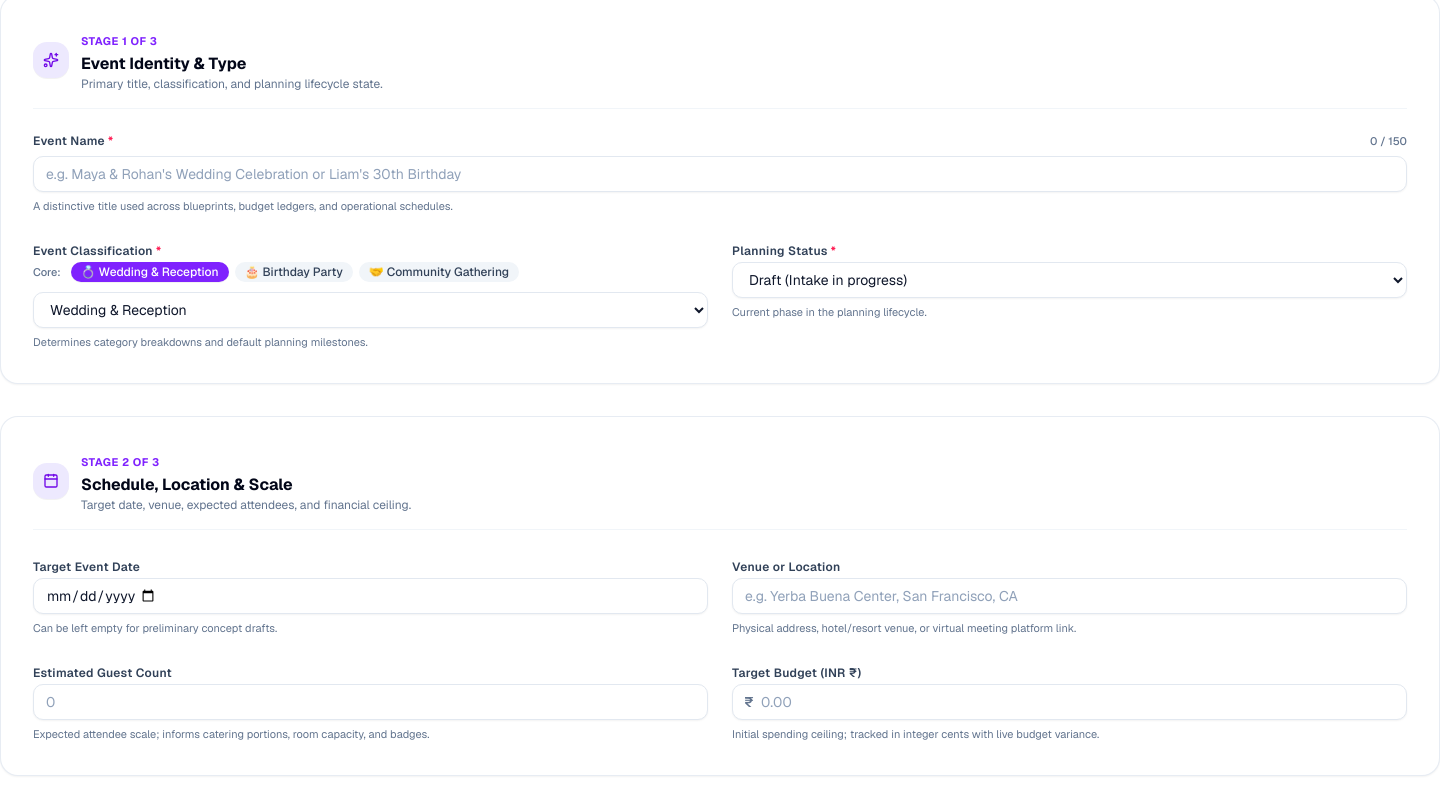
Test case: EventForm Component › Interactive User Input & State Transitions › updates input values and live character counters as user types
Check: the text "0 / 150" is shown, box [1370, 133, 1407, 150]
Type "Global Tech Symposium" into the field labelled "Event Name *" at (720, 174), box [33, 156, 1407, 192]
(page scrolled)
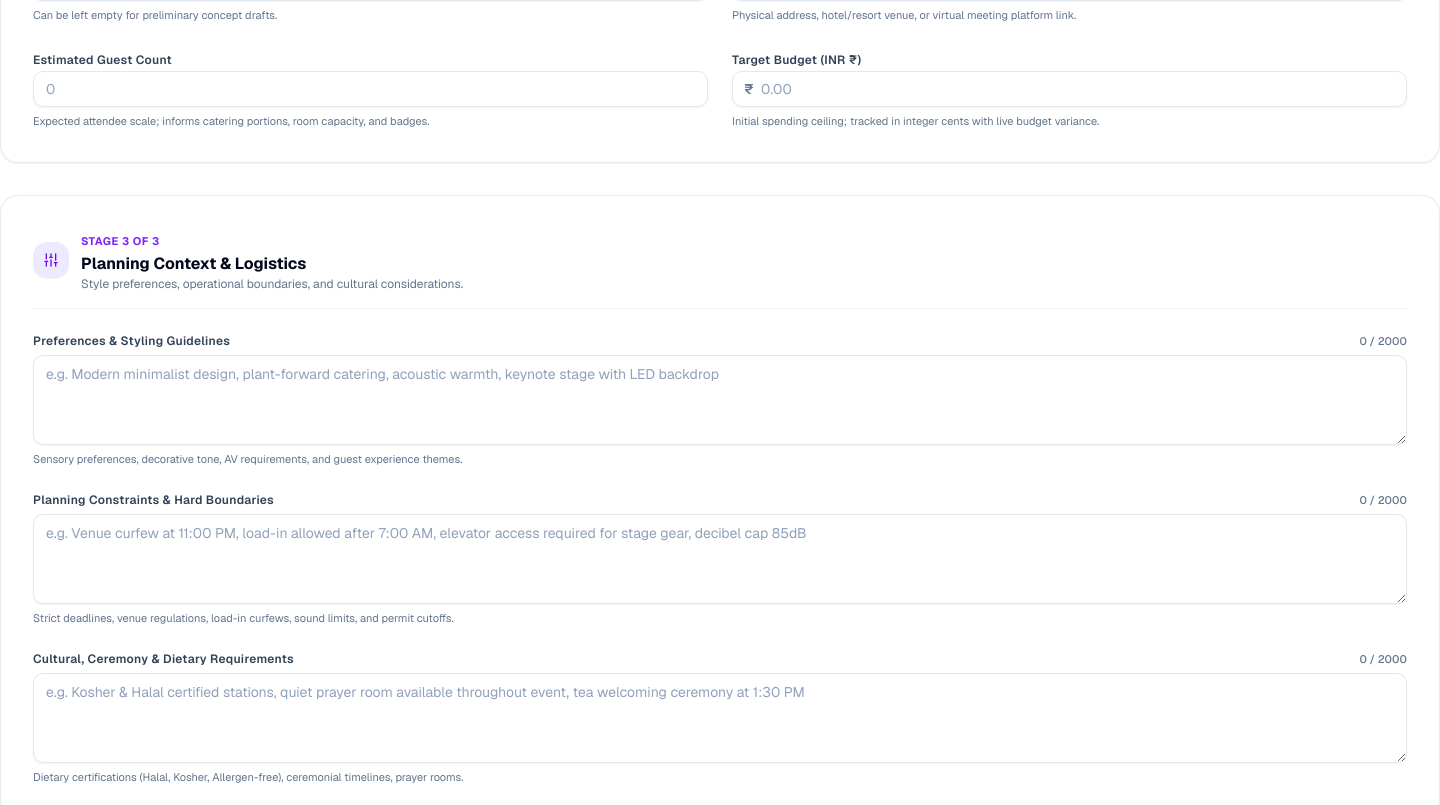
Type "Minimalist stage design" into the text box labelled "Preferences & Styling Guidelines" at (720, 400), box [33, 355, 1407, 445]
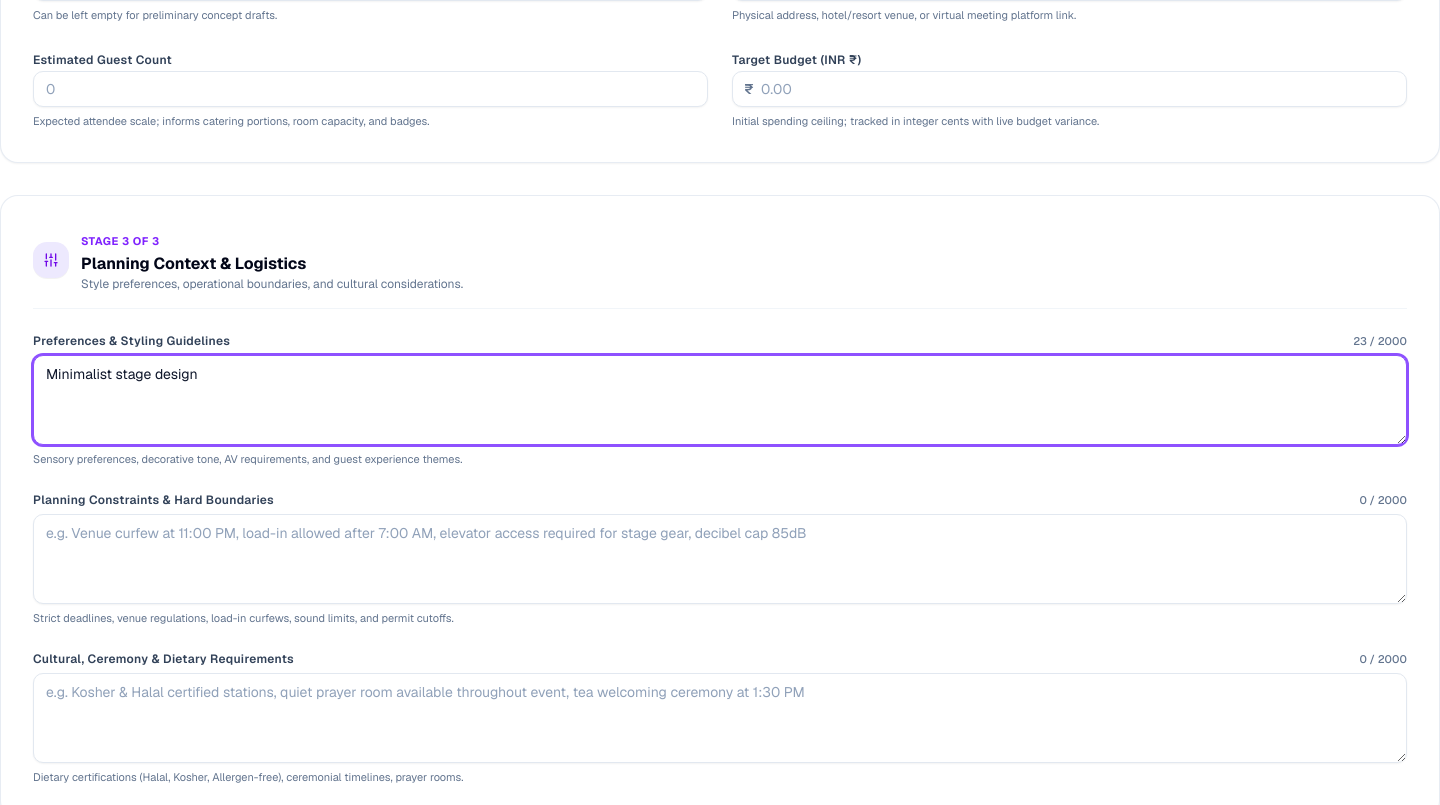
Check: the text "23 / 2000" is shown, box [1353, 332, 1407, 349]
